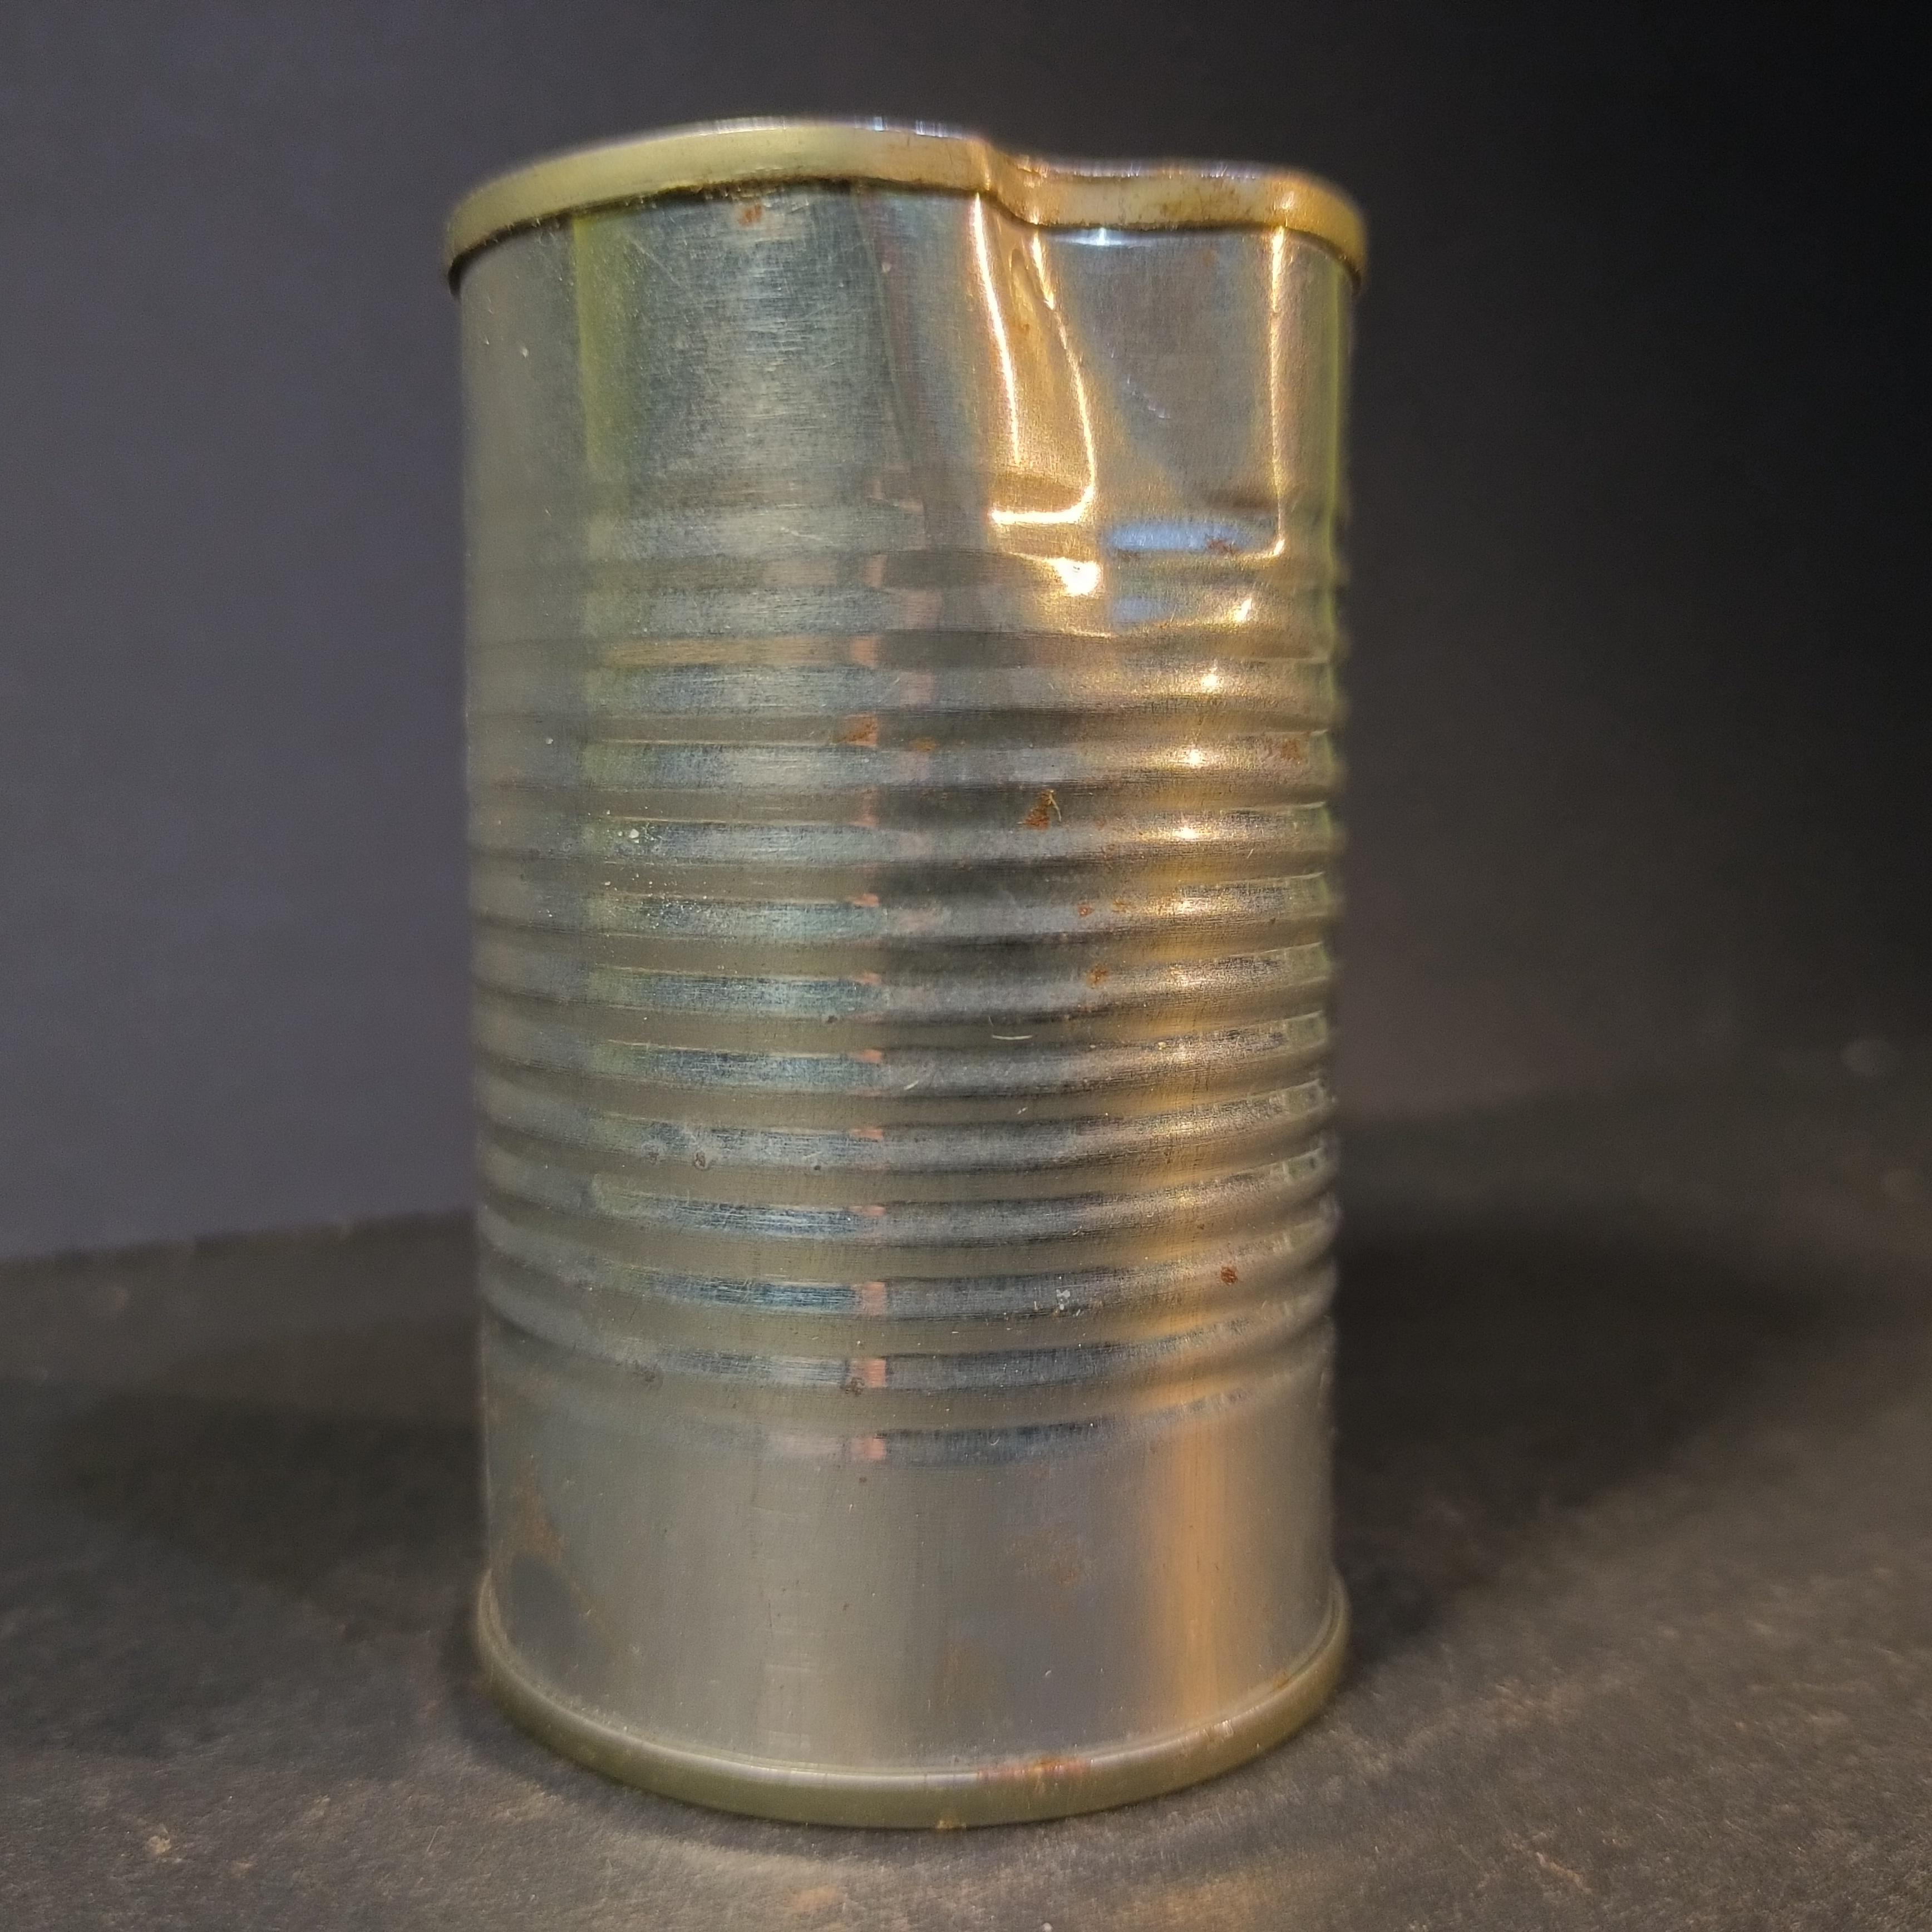Dented: (409, 87, 1442, 1836)
